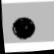correct: (8, 14, 39, 42)
